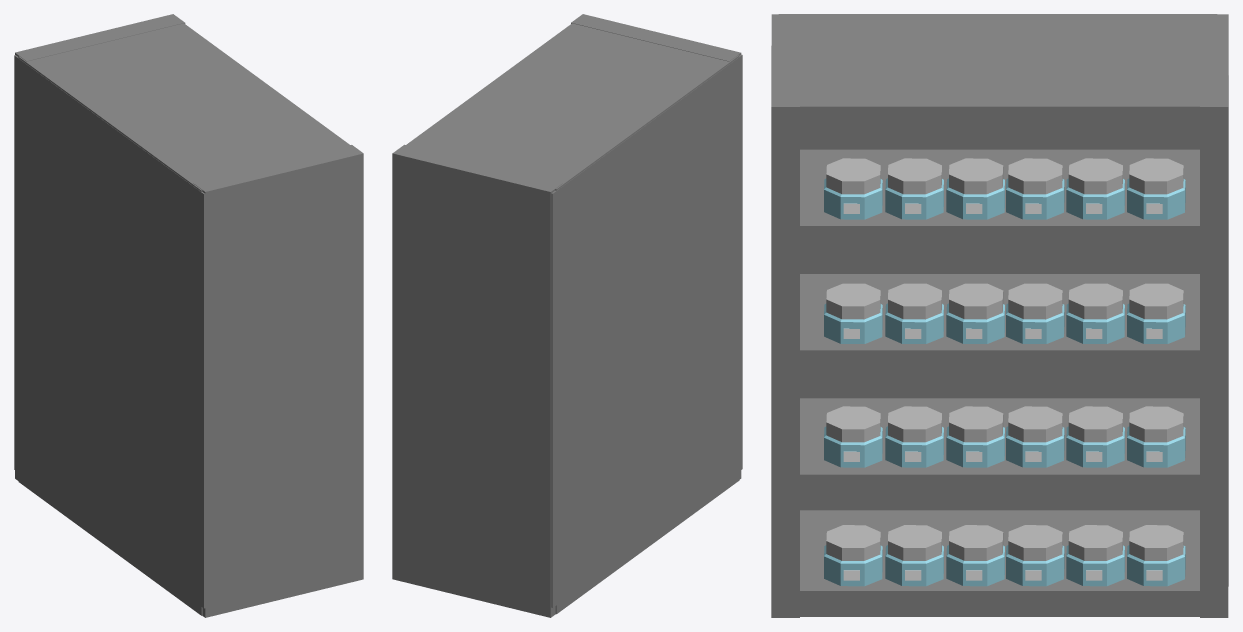
Rendered from gentle_bodycream_shelf.gltf.
The picture shows the model from 3 angles, left to right: view 1: azimuth 30°, elevation 25°; view 2: azimuth 150°, elevation 25°; view 3: azimuth 270°, elevation 25°; orthographic projection. The views are drawn at different scales.
Visible parts, largest first — view 1: Cube; view 2: Cube; view 3: Cube.
Boxes of the visible parts, bbox=[...] form: Cube: bbox=[14, 14, 363, 617]; Cube: bbox=[392, 14, 742, 617]; Cube: bbox=[771, 14, 1228, 617].
Size of the model in its own units: 4.03 by 10.28 by 8.34.
Materials: 4 (1 with a texture image).
